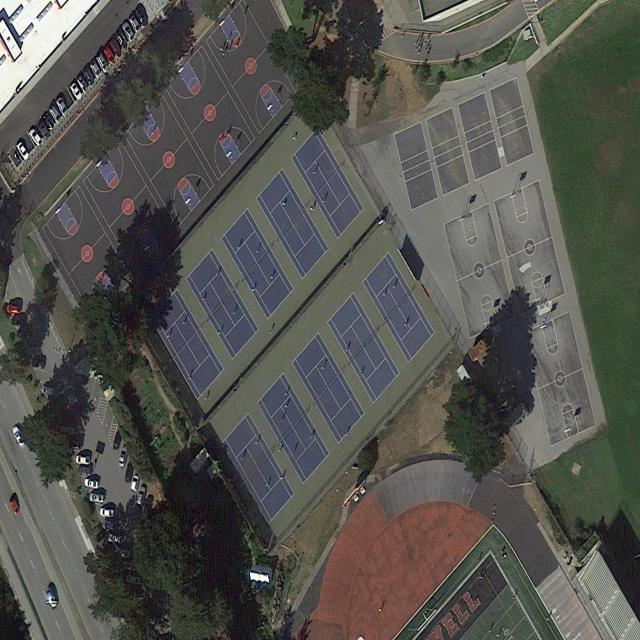small-vehicle: (95, 51, 111, 75), (81, 65, 97, 88), (108, 36, 124, 59), (44, 586, 58, 611), (102, 44, 117, 67), (76, 73, 90, 96), (37, 120, 52, 141), (122, 21, 136, 43), (16, 141, 30, 163), (29, 126, 43, 148), (55, 96, 69, 118), (69, 82, 83, 104), (135, 6, 149, 28), (115, 29, 129, 51), (12, 424, 25, 447), (89, 59, 103, 80), (48, 104, 62, 125), (42, 111, 56, 132), (117, 445, 129, 469), (128, 13, 142, 33), (143, 496, 154, 519), (9, 496, 21, 516), (125, 463, 135, 485), (130, 474, 141, 494), (42, 383, 56, 398), (30, 357, 44, 372), (126, 573, 141, 587), (137, 485, 147, 506), (108, 533, 123, 546), (84, 478, 100, 490), (89, 493, 105, 504), (11, 317, 27, 328), (100, 507, 115, 518), (5, 304, 21, 314), (76, 454, 90, 465), (78, 466, 92, 477)
